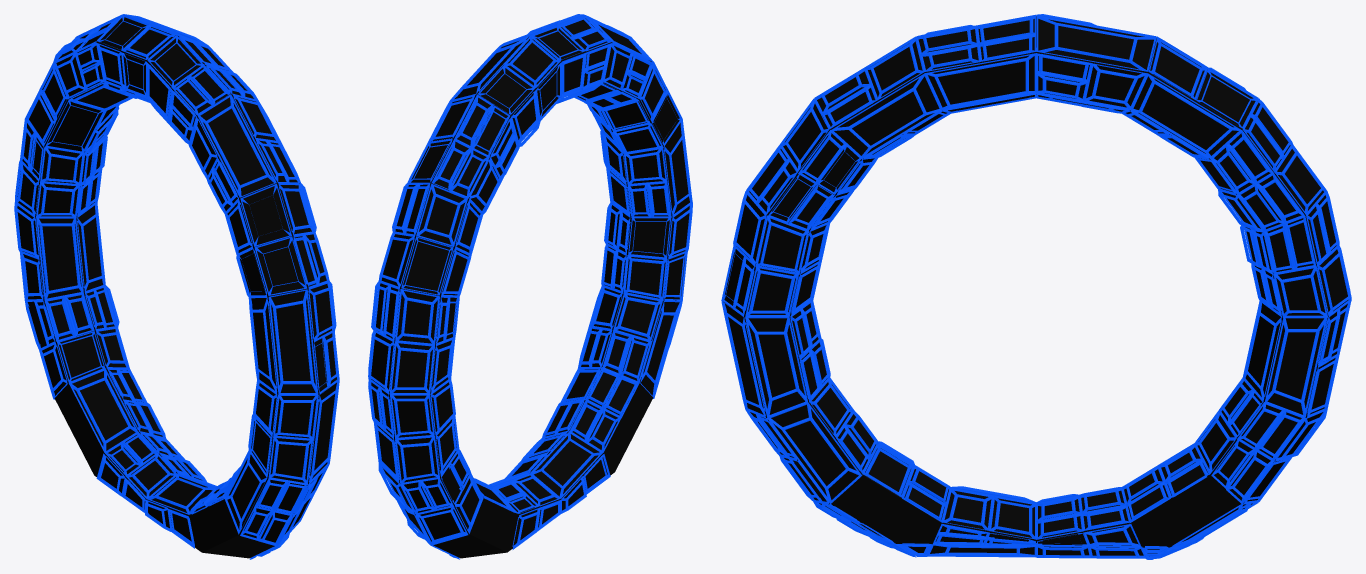
Rendered from Portal.glb.
3 renders of one model, left to right at view 1: azimuth 30°, elevation 25°; view 2: azimuth 150°, elevation 25°; view 3: azimuth 270°, elevation 25°, orthographic. The views are drawn at different scales.
Parts seen in each view (by area): view 1: discombobulated_mesh.002; view 2: discombobulated_mesh.002; view 3: discombobulated_mesh.002.
Part boxes in pixels (x1,y1,x2,y2): discombobulated_mesh.002: (14, 14, 339, 559); discombobulated_mesh.002: (368, 14, 692, 559); discombobulated_mesh.002: (721, 14, 1351, 559).
Bounding box in the file's own units: 0.5087 × 3.3 × 3.56.
